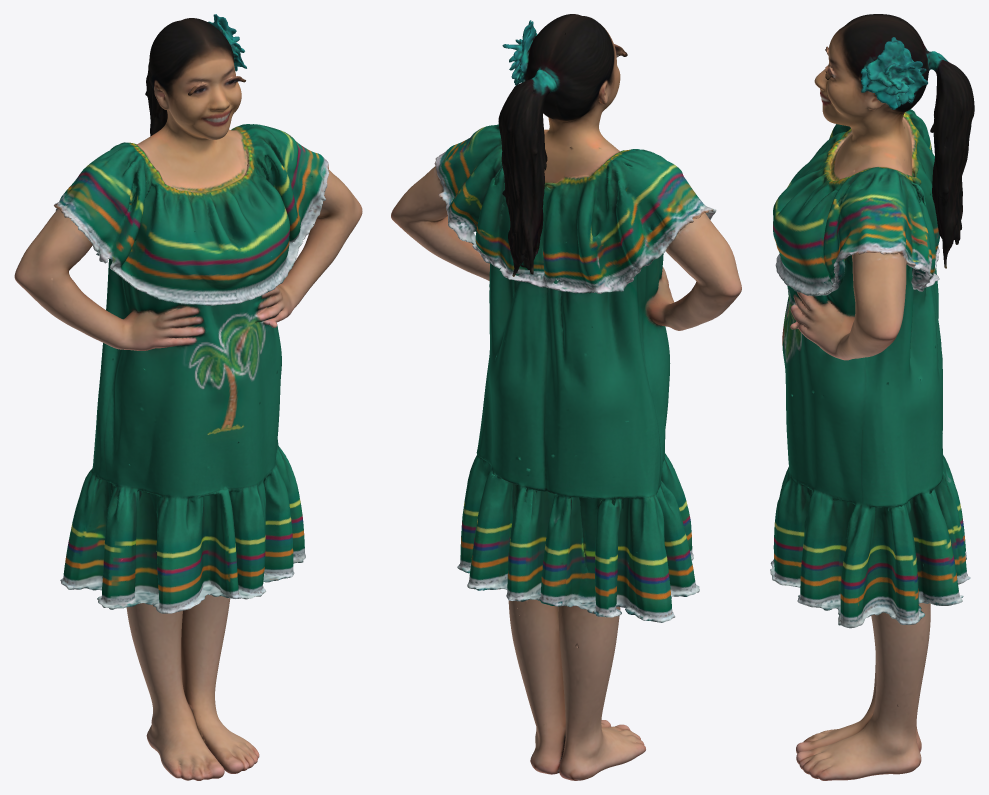
File: takirarimujer.glb
3 renders of one model, left to right at view 1: azimuth 30°, elevation 25°; view 2: azimuth 150°, elevation 25°; view 3: azimuth 270°, elevation 25°, orthographic. The views are drawn at different scales.
Visible parts, largest first — view 1: tripo_node_c2935ae8-08f2-42f6-838d-6130a06ce284; view 2: tripo_node_c2935ae8-08f2-42f6-838d-6130a06ce284; view 3: tripo_node_c2935ae8-08f2-42f6-838d-6130a06ce284.
Boxes of the visible parts, x1=… form: tripo_node_c2935ae8-08f2-42f6-838d-6130a06ce284: x1=14, y1=14, x2=362, y2=780; tripo_node_c2935ae8-08f2-42f6-838d-6130a06ce284: x1=391, y1=14, x2=741, y2=780; tripo_node_c2935ae8-08f2-42f6-838d-6130a06ce284: x1=770, y1=14, x2=974, y2=780.
Size of the model in its own units: 0.4911 by 1 by 0.248.
1 material, 1 textured.
